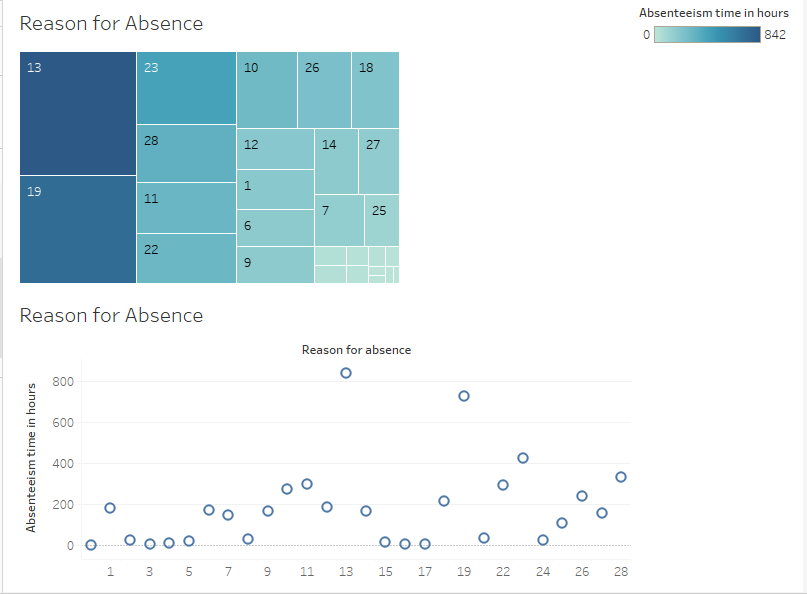

The page's visual inventory and layout, read from the dashboard file:
{"tool":"tableau","page":{"name":"Dashboard 5","canvas":[800,600],"ordinal":6},"visuals":[{"type":"worksheet","title":"Sheet 13","mark":"Automatic","box":[8,8,624,292]},{"type":"legend","title":"Sheet 13","param":"[federated.0x288y2192xy9k11zkc5r09wspmi].[sum:Absenteeism time in hours:qk]","box":[632,8,160,65]},{"type":"worksheet","title":"Sheet 14","mark":"Shape","rows":["Absenteeism time in hours"],"cols":["Reason for absence"],"box":[8,300,624,292]}]}

Visuals, with their boxes in screenshot pixels (x1, y1, x2, y2), scaled from the page's 800x600 canvas onto the 807x594 screenshot:
"Sheet 13" worksheet: {"x1": 8, "y1": 8, "x2": 638, "y2": 297}
"Sheet 13" legend: {"x1": 638, "y1": 8, "x2": 799, "y2": 72}
"Sheet 14" worksheet (Shape marks): {"x1": 8, "y1": 297, "x2": 638, "y2": 586}
